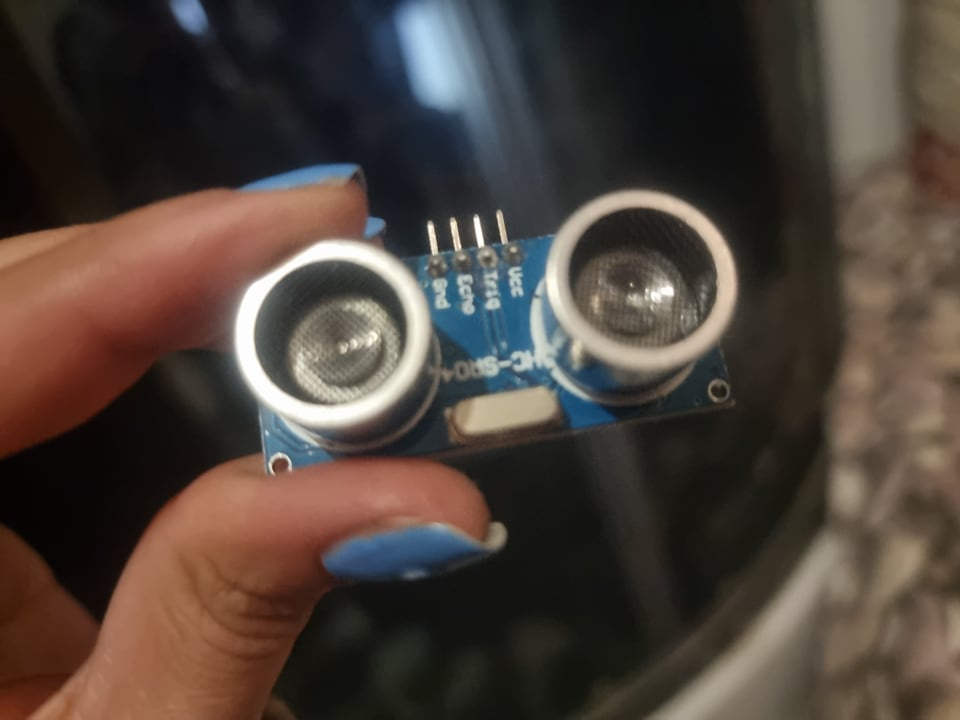SENSOR: (218, 187, 749, 476)
